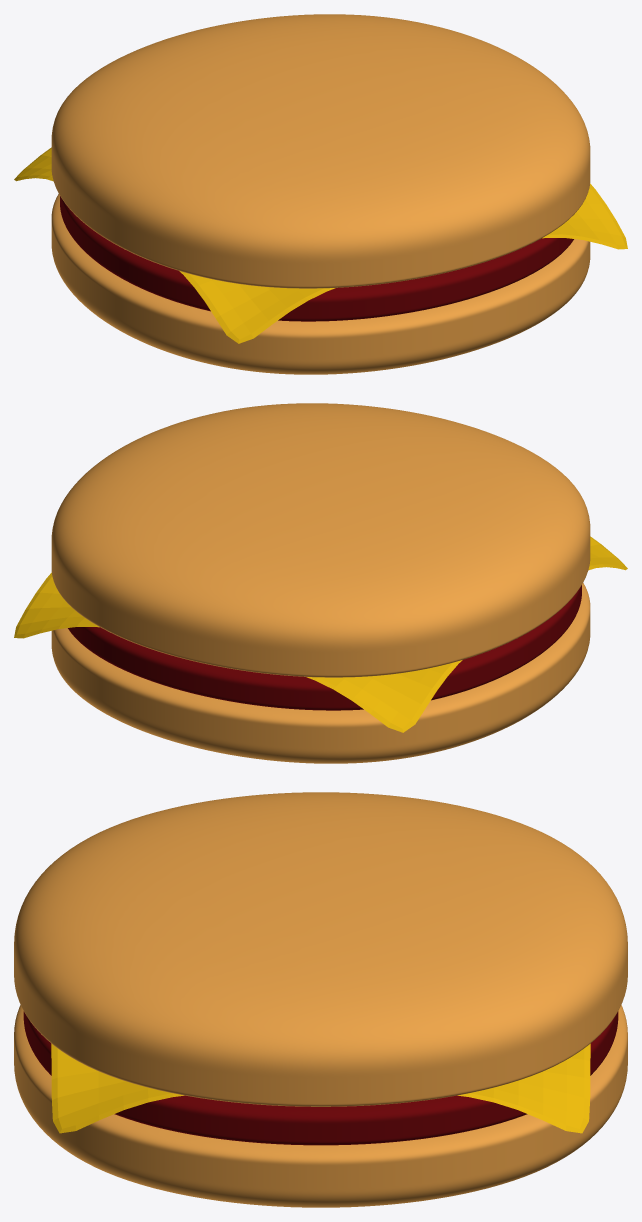
Rendered from hamburger.glb.
3 views of the same model, one above another, from view 1: azimuth 30°, elevation 25°; view 2: azimuth 150°, elevation 25°; view 3: azimuth 270°, elevation 25° (orthographic). The views are drawn at different scales.
Visible parts, largest first — view 1: Cube.002, Cube, Cube.001, Plane; view 2: Cube.002, Cube, Cube.001, Plane; view 3: Cube.002, Cube, Cube.001, Plane.
Part boxes in pixels (left/top/right/bottom): Cube.002: left=51, top=14, right=590, bottom=288; Cube: left=51, top=194, right=590, bottom=374; Cube.001: left=60, top=196, right=573, bottom=321; Plane: left=14, top=147, right=627, bottom=343; Cube.002: left=51, top=403, right=590, bottom=677; Cube: left=51, top=583, right=590, bottom=763; Cube.001: left=68, top=585, right=581, bottom=710; Plane: left=14, top=536, right=627, bottom=732; Cube.002: left=14, top=792, right=627, bottom=1106; Cube: left=14, top=1005, right=627, bottom=1207; Cube.001: left=23, top=1011, right=618, bottom=1145; Plane: left=51, top=1043, right=590, bottom=1133.
Size of the model in its own units: 1.83 by 0.7472 by 1.83.
